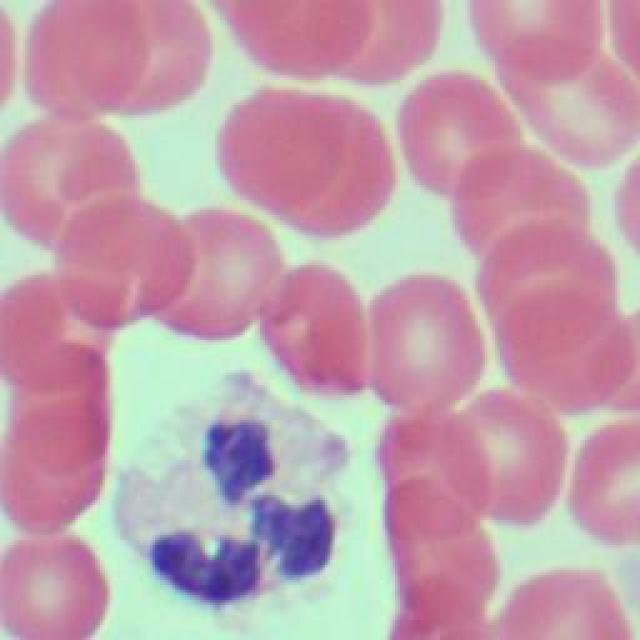RBC: (5, 106, 143, 256), (474, 218, 618, 354), (450, 145, 592, 280), (150, 208, 288, 342), (53, 196, 195, 326), (499, 34, 636, 166), (266, 98, 394, 238), (499, 285, 631, 420), (218, 85, 354, 213), (444, 385, 561, 527), (21, 0, 153, 122), (369, 274, 486, 411), (384, 480, 498, 618), (76, 0, 212, 115), (395, 71, 517, 199), (1, 403, 111, 535), (211, 0, 379, 85), (264, 260, 371, 392), (380, 410, 490, 538), (11, 342, 111, 472), (0, 271, 112, 386), (302, 0, 440, 88), (0, 528, 110, 638), (467, 0, 602, 82), (497, 570, 635, 640), (567, 421, 640, 548), (386, 584, 494, 638)
WBC: (114, 370, 366, 612)
